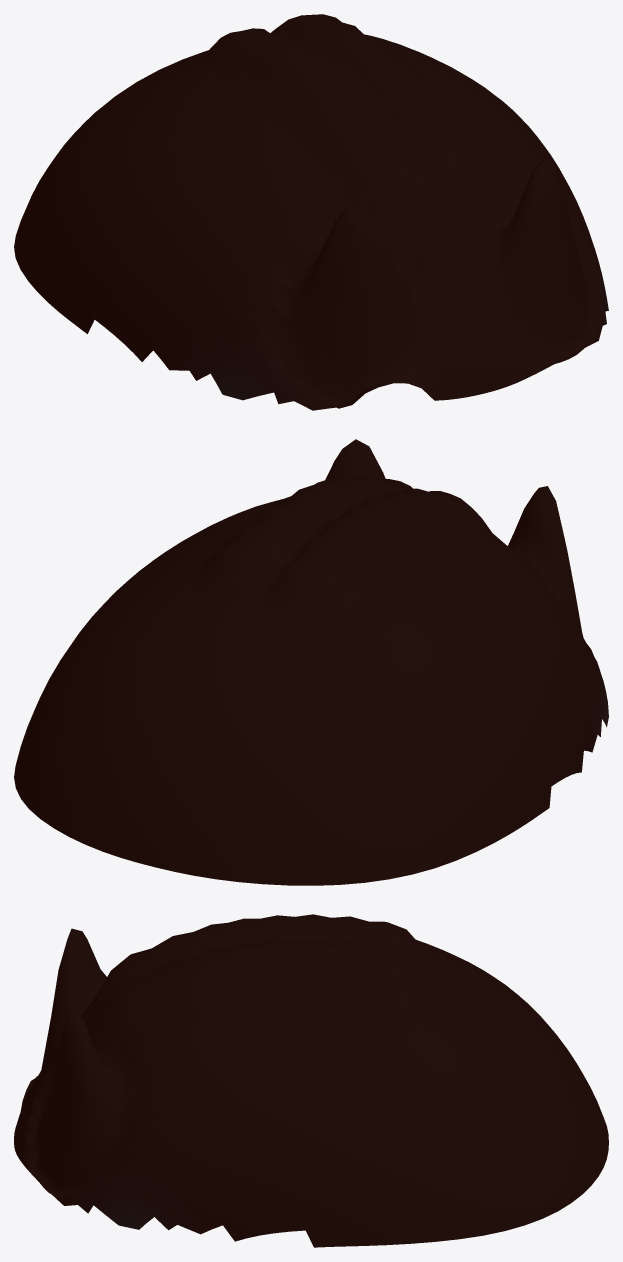
Rendered from front03.dae.
3 renders of one model, top to bottom at view 1: azimuth 30°, elevation 25°; view 2: azimuth 150°, elevation 25°; view 3: azimuth 270°, elevation 25°, orthographic. The views are drawn at different scales.
Parts seen in each view (by area): view 1: Body; view 2: Body; view 3: Body.
Part boxes in pixels (left/top/right/bottom): Body: left=14, top=14, right=608, bottom=410; Body: left=14, top=439, right=608, bottom=885; Body: left=14, top=914, right=608, bottom=1247.
Bounding box in the file's own units: 15.31 × 18.68 × 7.4.
